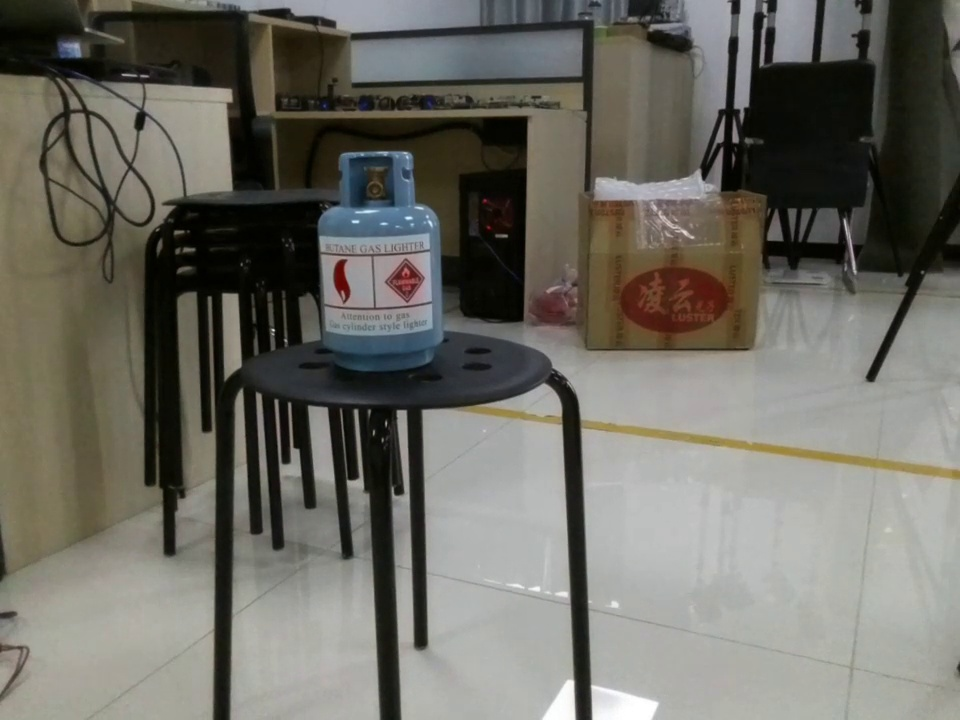gas tank: (313, 141, 449, 377)
